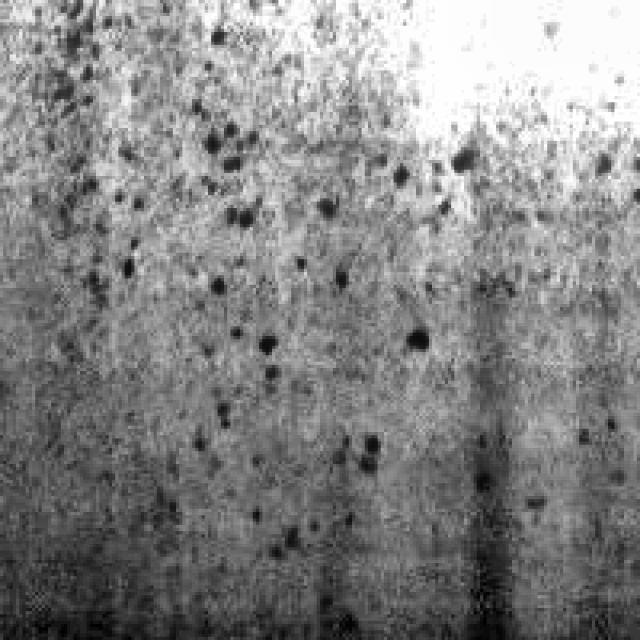Rolled_in_Scale: (64, 16, 301, 467)
